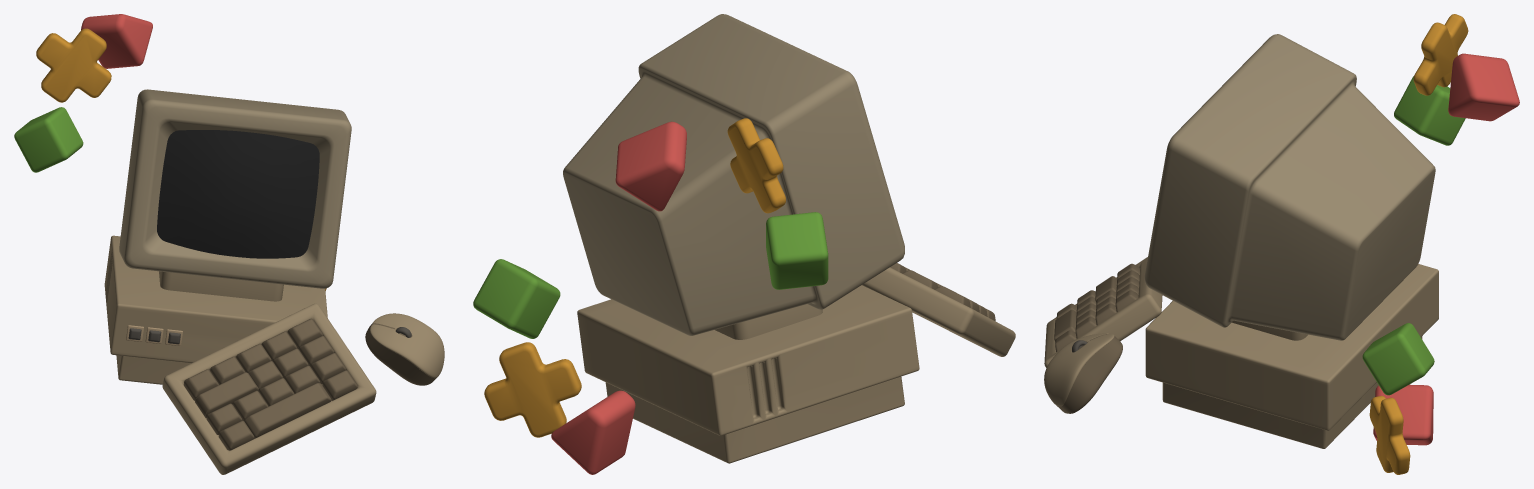
Rendered from old_computer.glb.
The picture shows the model from 3 angles, left to right: view 1: azimuth 30°, elevation 25°; view 2: azimuth 150°, elevation 25°; view 3: azimuth 270°, elevation 25°; orthographic projection. The views are drawn at different scales.
Parts seen in each view (by area): view 1: Cube.037, Cube.040, Cube.039, Plane.069, Plane.040, Cube.045, Cube.043, Cube.042, Cube.044, Cube.038, Cube.041, Plane.024; view 2: Cube.037, Cube.039, Cube.048, Cube.044, Plane.040, Cube.043, Cube.046, Cube.047, Cube.045, Cube.038, Plane.069; view 3: Cube.037, Cube.039, Cube.044, Plane.069, Cube.046, Cube.043, Cube.045, Plane.040, Cube.048, Cube.042, Cube.047, Cube.041.
Boxes of the visible parts, x1,y1,x2,y2 form: Cube.037: [119, 89, 351, 288]; Cube.040: [157, 130, 319, 258]; Cube.039: [104, 235, 327, 384]; Plane.069: [184, 318, 357, 450]; Plane.040: [162, 303, 376, 474]; Cube.045: [36, 28, 111, 102]; Cube.043: [14, 107, 83, 172]; Cube.042: [370, 313, 444, 378]; Cube.044: [81, 14, 152, 68]; Cube.038: [159, 271, 283, 301]; Cube.041: [365, 323, 436, 385]; Plane.024: [126, 325, 182, 345]; Cube.037: [563, 14, 904, 335]; Cube.039: [577, 285, 919, 463]; Cube.048: [484, 342, 581, 437]; Cube.044: [615, 121, 686, 211]; Plane.040: [862, 267, 1015, 356]; Cube.043: [766, 212, 828, 289]; Cube.046: [473, 259, 560, 338]; Cube.047: [551, 390, 635, 474]; Cube.045: [727, 118, 785, 213]; Cube.038: [715, 304, 822, 339]; Plane.069: [890, 263, 995, 321]; Cube.037: [1144, 34, 1435, 340]; Cube.039: [1145, 264, 1438, 448]; Cube.044: [1448, 53, 1519, 121]; Plane.069: [1054, 263, 1139, 351]; Cube.046: [1362, 323, 1434, 395]; Cube.043: [1394, 76, 1465, 145]; Cube.045: [1413, 14, 1468, 95]; Plane.040: [1044, 257, 1162, 367]; Cube.048: [1369, 396, 1410, 474]; Cube.042: [1044, 333, 1114, 406]; Cube.047: [1373, 384, 1433, 445]; Cube.041: [1056, 334, 1122, 413].
Size of the model in its own units: 3.19 by 3.32 by 4.06.
